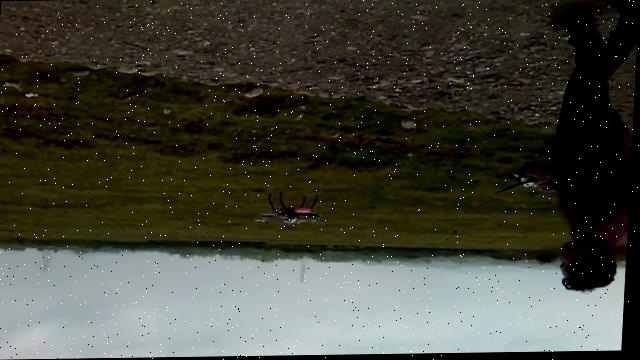drone: (255, 192, 328, 229)
